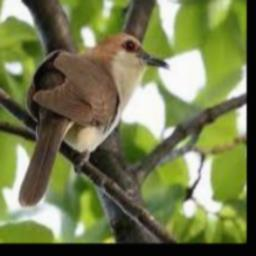Cuckoo: (19, 31, 168, 208)
